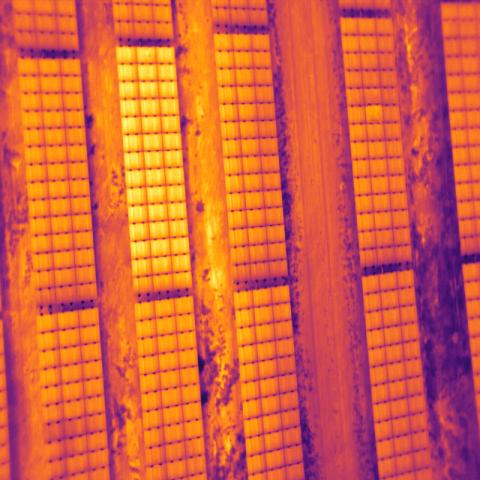fault: (368, 104, 381, 122)
